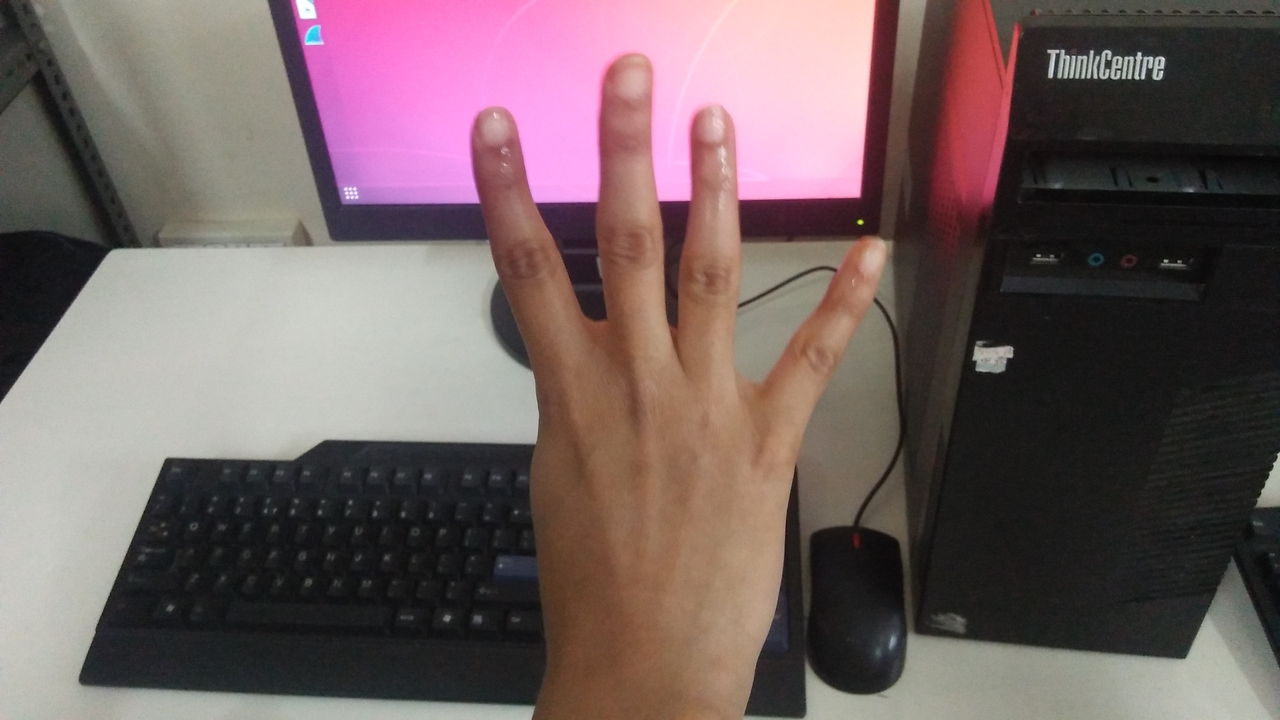fingertip: (830, 230, 898, 292), (464, 102, 528, 160), (596, 50, 656, 108), (686, 102, 742, 150)
